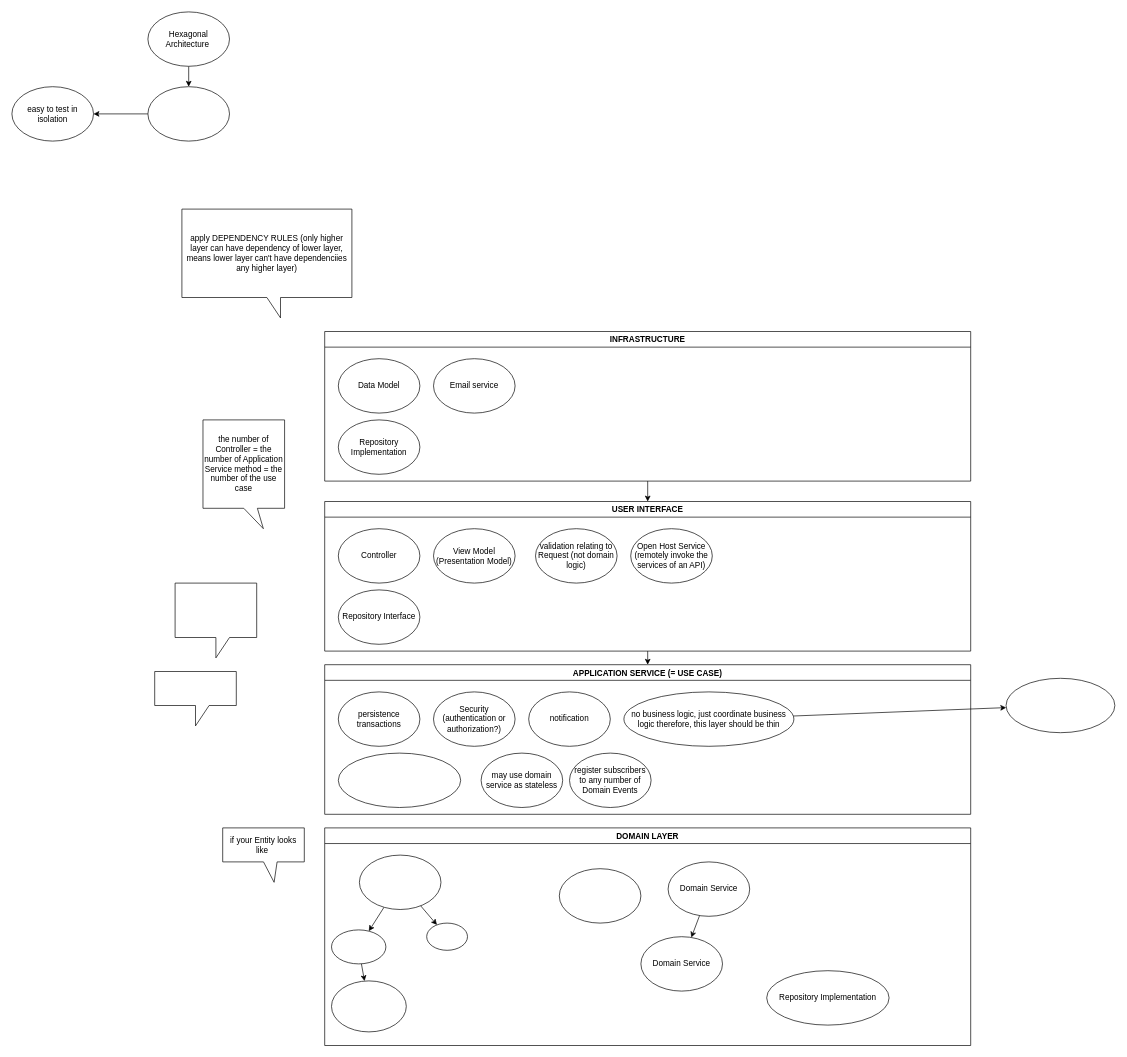
This 1127x1057 diagram has some shape labels left out. Here are the shapes that lost their labels. From the top down, the centre of each, then its label:
At [188,113]: "advantages".
At [215,620]: "any architectural concern never affect the number of Bounded Context".
At [1060,705]: "getting fat of this layer is code smell of amenic domain model".
At [399,780]: "Factory or construct or Repository to get (only) Aggregate instance".
At [400,882]: "Entity".
At [600,895]: "Value Object".
At [358,946]: "unique id".
At [447,936]: "mutability".
At [368,1006]: "identify which attribute(s) should be unique".
